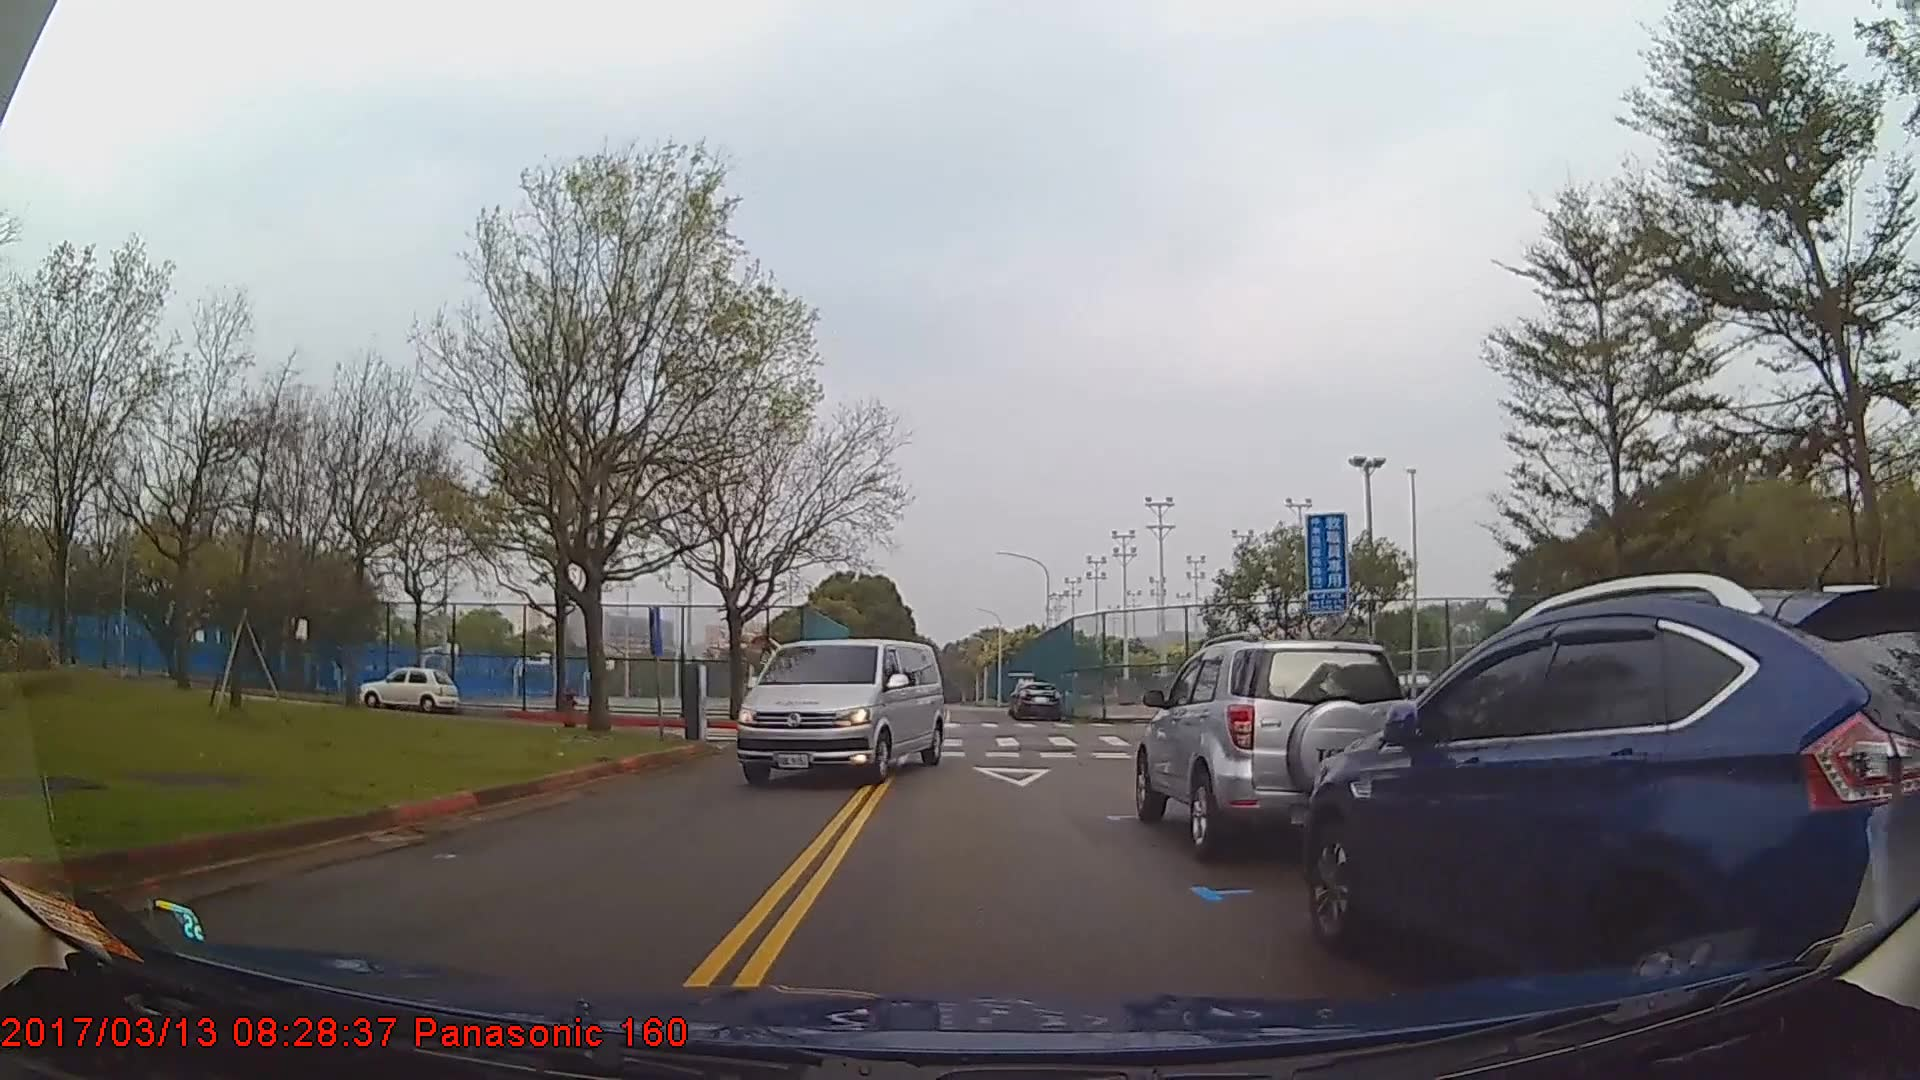vehicle: (1305, 582, 1920, 1000), (1134, 637, 1418, 865), (731, 638, 943, 791), (360, 665, 460, 712), (1013, 680, 1062, 723)
